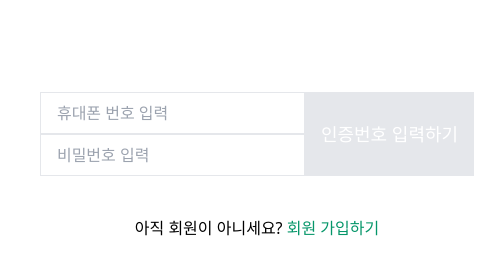
Scenario: Create Account › Should see phoneNumber / password validation errors
Click the link "회원 가입하기": {"x": 334, "y": 228} [287,217,380,239]
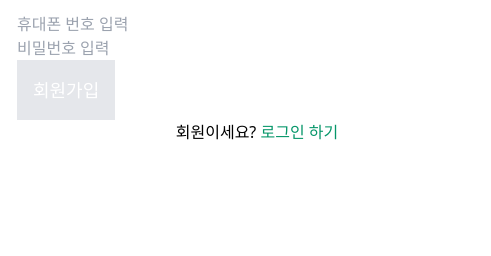
In the field with placeholder "휴대폰 번호 입력": {"x": 133, "y": 24} [17,12,248,36], type "asdf"
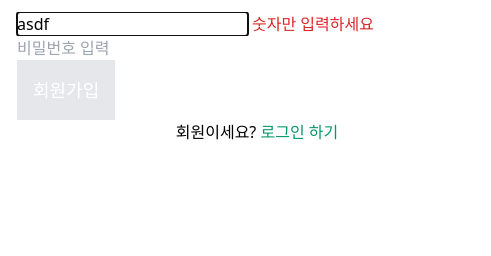
Expected: the message reads "숫자만 입력하세요", [248,12,378,39]
Clear the field with placeholder "휴대폰 번호 입력": {"x": 133, "y": 24} [17,12,248,36]
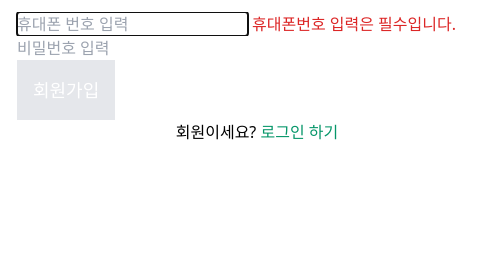
Expected: the message reads "휴대폰번호 입력은 필수입니다.", [248,12,460,39]
In the field with placeholder "휴대폰 번호 입력": {"x": 133, "y": 24} [17,12,248,36], type "01012341234"
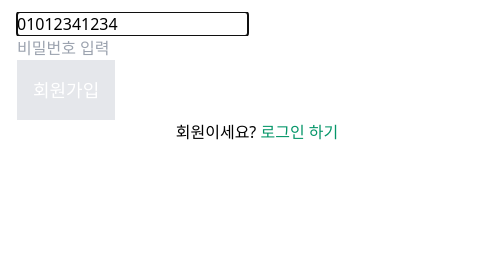
In the password field with placeholder "비밀번호 입력": {"x": 133, "y": 48} [17,36,248,60], type "a"
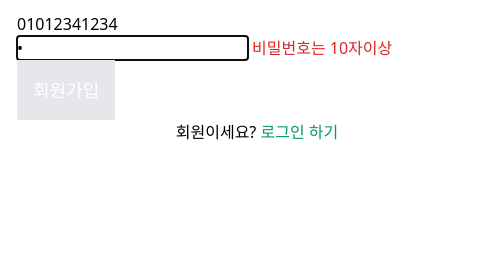
Clear the password field with placeholder "비밀번호 입력": {"x": 133, "y": 48} [17,36,248,60]
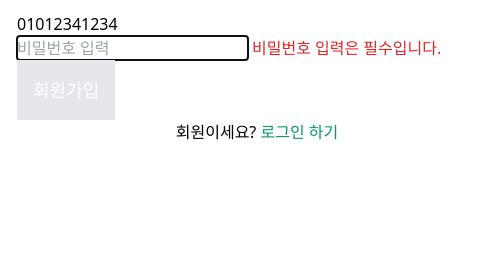
Expected: the message reads "비밀번호 입력은 필수입니다.", [248,33,445,63]
